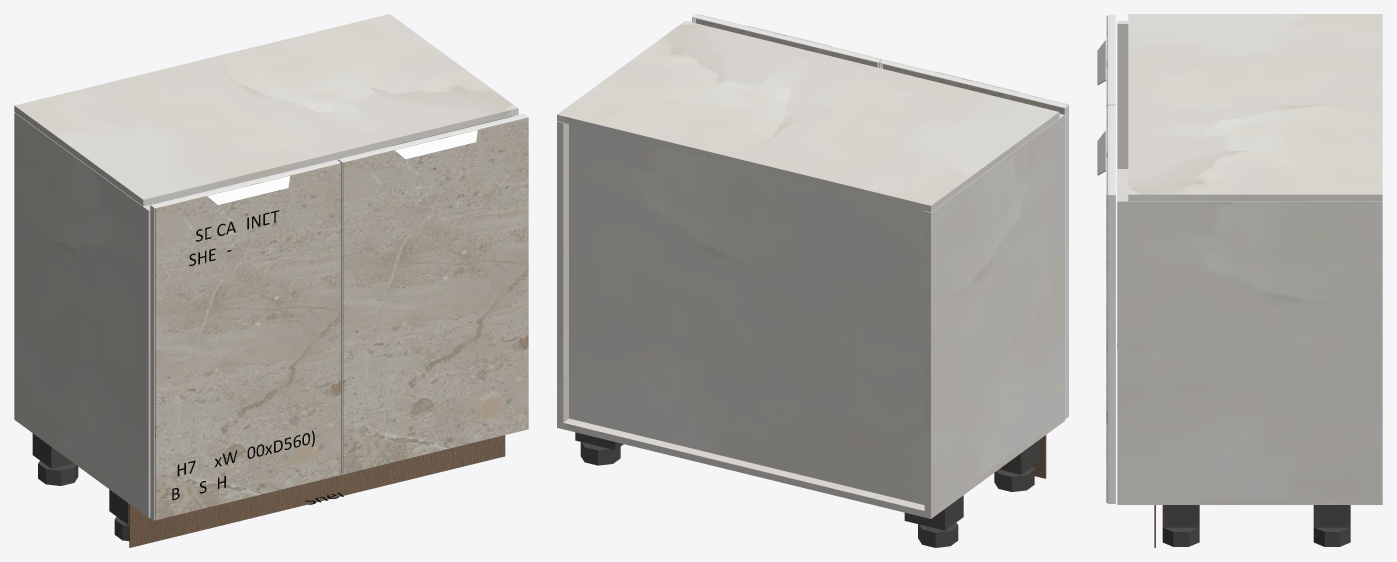
The picture shows the model from 3 angles, left to right: view 1: azimuth 30°, elevation 25°; view 2: azimuth 150°, elevation 25°; view 3: azimuth 270°, elevation 25°; orthographic projection.
Size of what is drawn, in the model's own units: 0.9 by 0.82 by 0.6.
6 materials, 3 textured.
